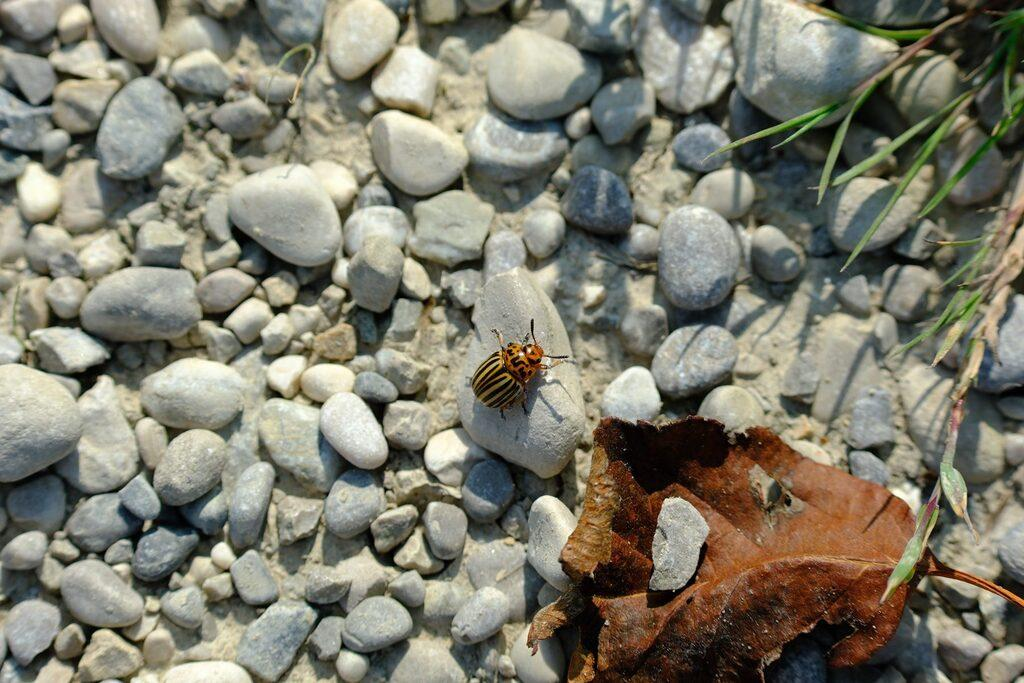potato_beetle: (445, 312, 579, 428)
